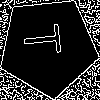T: (23, 21, 70, 57)
